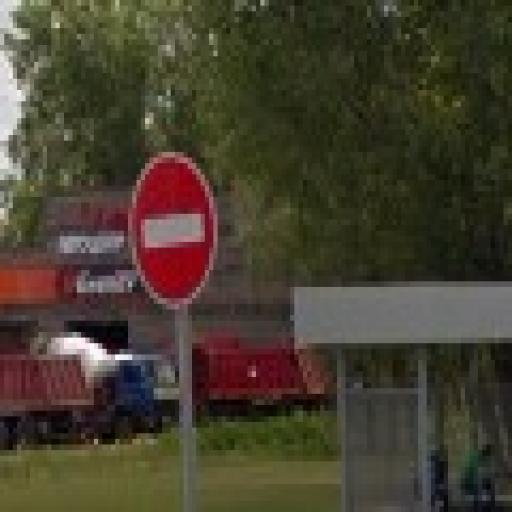traffic_sign: (129, 153, 219, 310)
